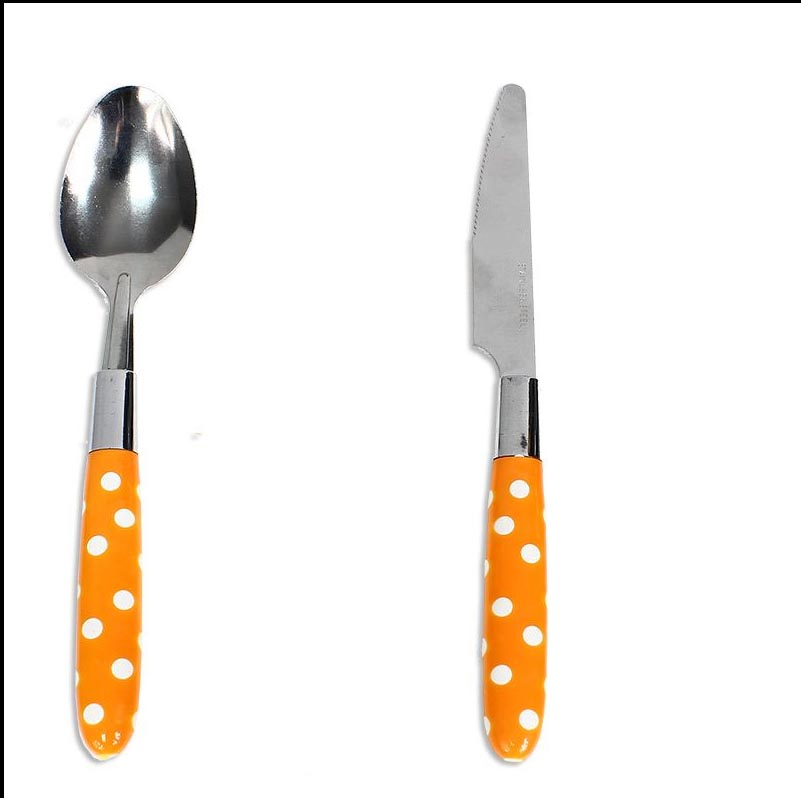Lyzka: (55, 79, 200, 296)
Noz: (464, 82, 545, 377)
